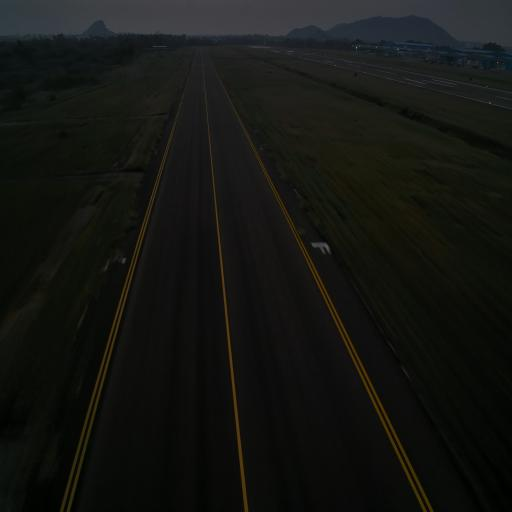on: (154, 146, 159, 154), (259, 142, 263, 151)
